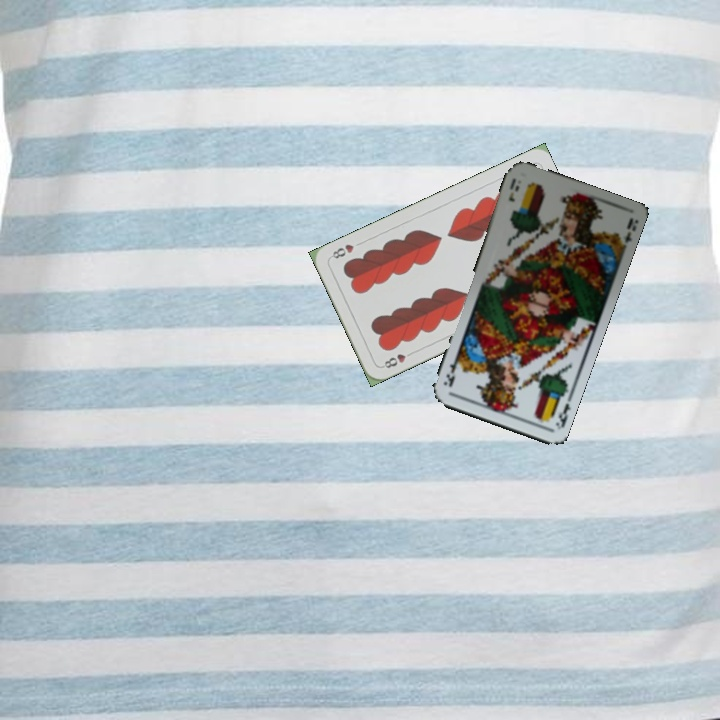EK: (552, 399, 573, 432), (505, 174, 522, 204)
H8: (378, 347, 416, 371)
